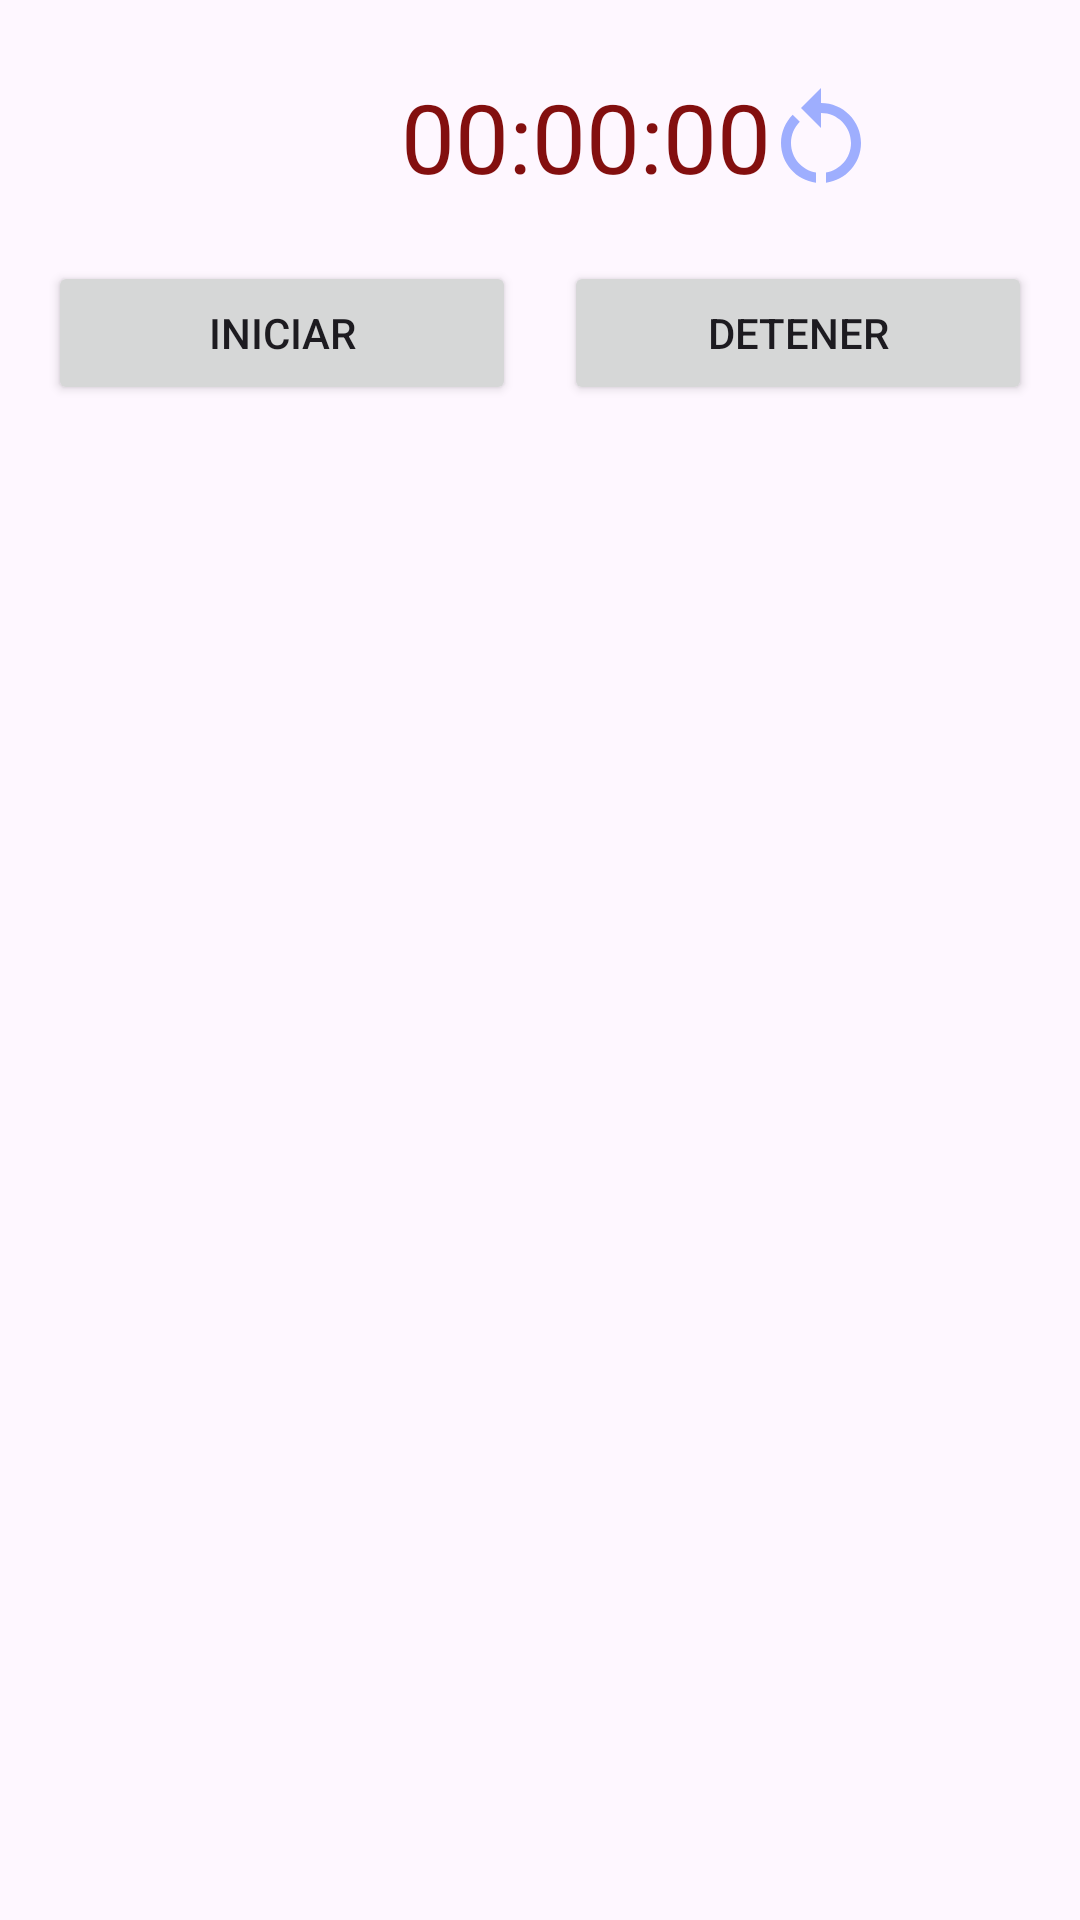

Where icons sit on this 1080×1920 app screen, as (x1, y1, x2, y2):
reset: (781, 88, 861, 183)
